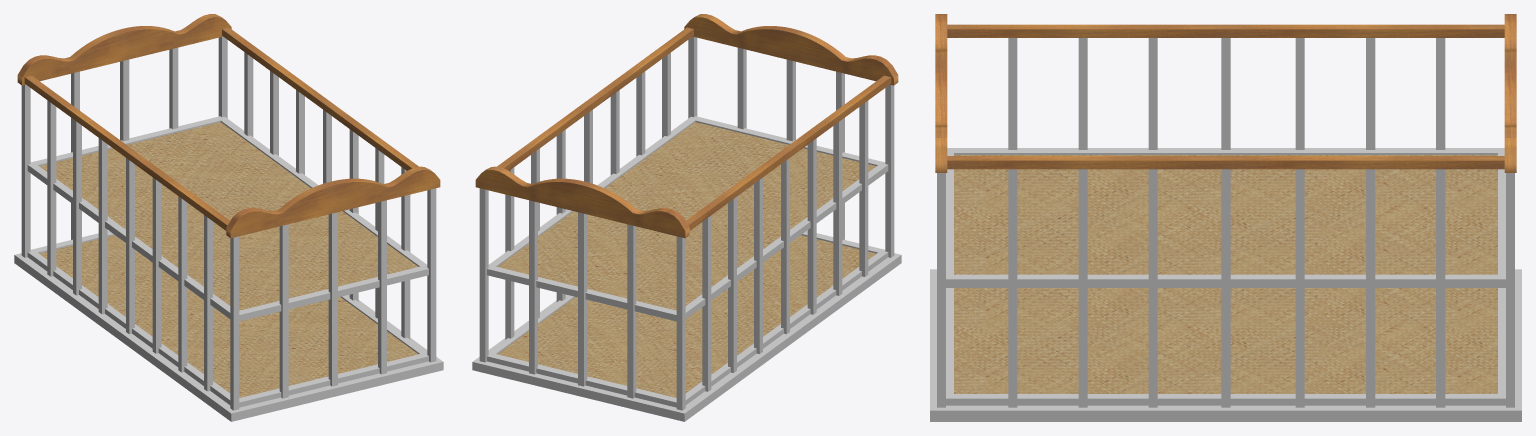
The model's file is baby_bed.fbx.
3 views of the same model, side by side, from view 1: azimuth 30°, elevation 25°; view 2: azimuth 150°, elevation 25°; view 3: azimuth 270°, elevation 25° (orthographic). The views are drawn at different scales.
Parts seen in each view (by area): view 1: baby_bed; view 2: baby_bed; view 3: baby_bed.
Boxes of the visible parts, x1,y1,x2,y2 form: baby_bed: (14, 14, 443, 421); baby_bed: (472, 14, 901, 421); baby_bed: (930, 14, 1521, 421).
Bounding box in the file's own units: 32.29 × 30.53 × 57.17.
